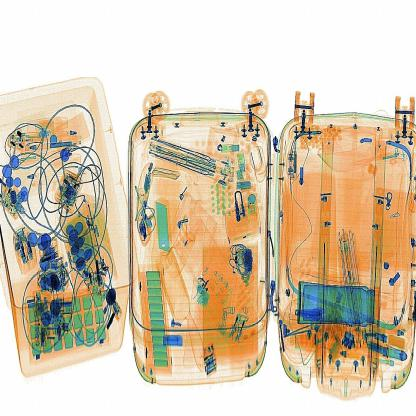pliers: (149, 192, 180, 275)
